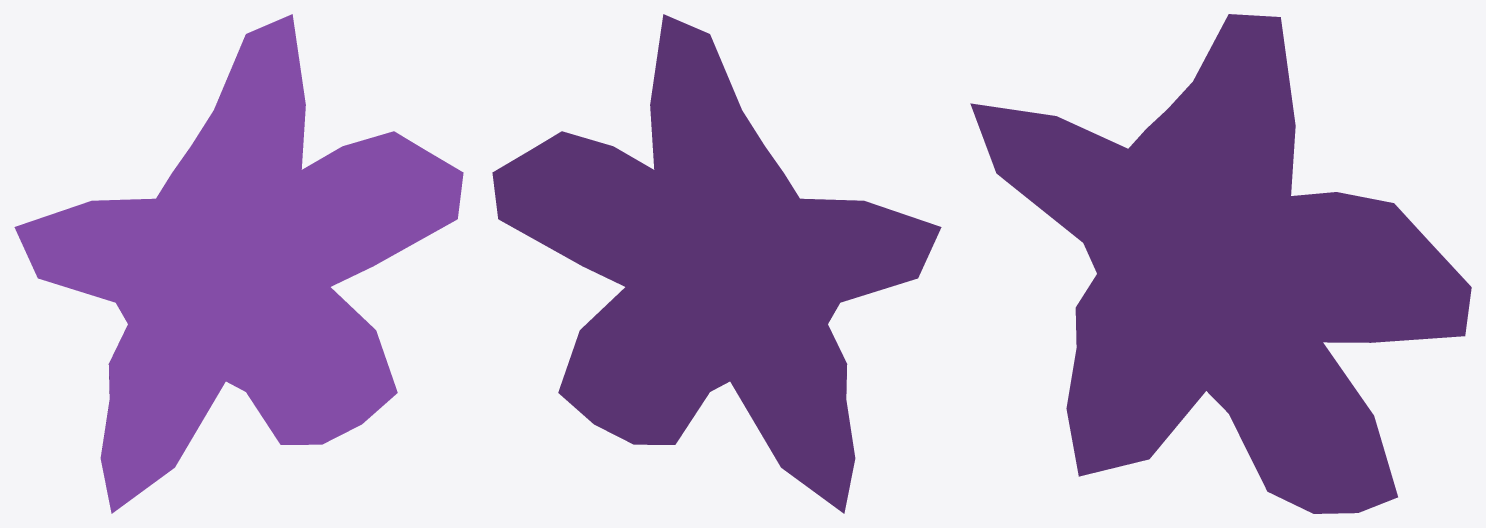
File: splat_purple.glb
The picture shows the model from 3 angles, left to right: view 1: azimuth 30°, elevation 25°; view 2: azimuth 150°, elevation 25°; view 3: azimuth 330°, elevation 25°; orthographic projection. The views are drawn at different scales.
Parts seen in each view (by area): view 1: SM_PaintSplash; view 2: SM_PaintSplash; view 3: SM_PaintSplash.
Part boxes in pixels (box(x1,y1,x2,y2)): SM_PaintSplash: box(14, 14, 463, 513); SM_PaintSplash: box(492, 14, 941, 513); SM_PaintSplash: box(970, 14, 1471, 513).
Size of the model in its own units: 1.71 by 1.66 by 0.0005.
